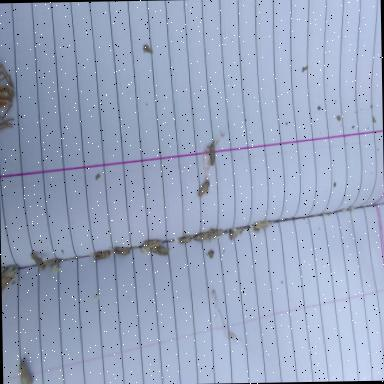pbw: (30, 251, 46, 270), (142, 238, 162, 252), (150, 244, 172, 256), (88, 250, 112, 260), (210, 143, 220, 166), (197, 181, 210, 198), (109, 246, 131, 256), (194, 230, 210, 242), (178, 231, 192, 243), (230, 228, 242, 240), (254, 220, 270, 228), (44, 258, 60, 266), (210, 228, 222, 236)
